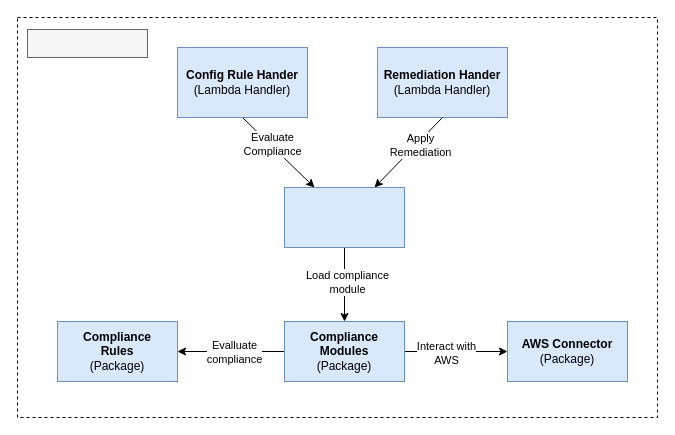
Some shapes in this 675 by 435 pixel diagram are drawn without their labels. The shapes that lost their labels are listed below. From the top down, each one's box as (x1, y1, x2, y2) in pixels, then its label:
(26, 28, 148, 58): Code Organization
(284, 186, 404, 248): Compliance Module Factory (Module)
